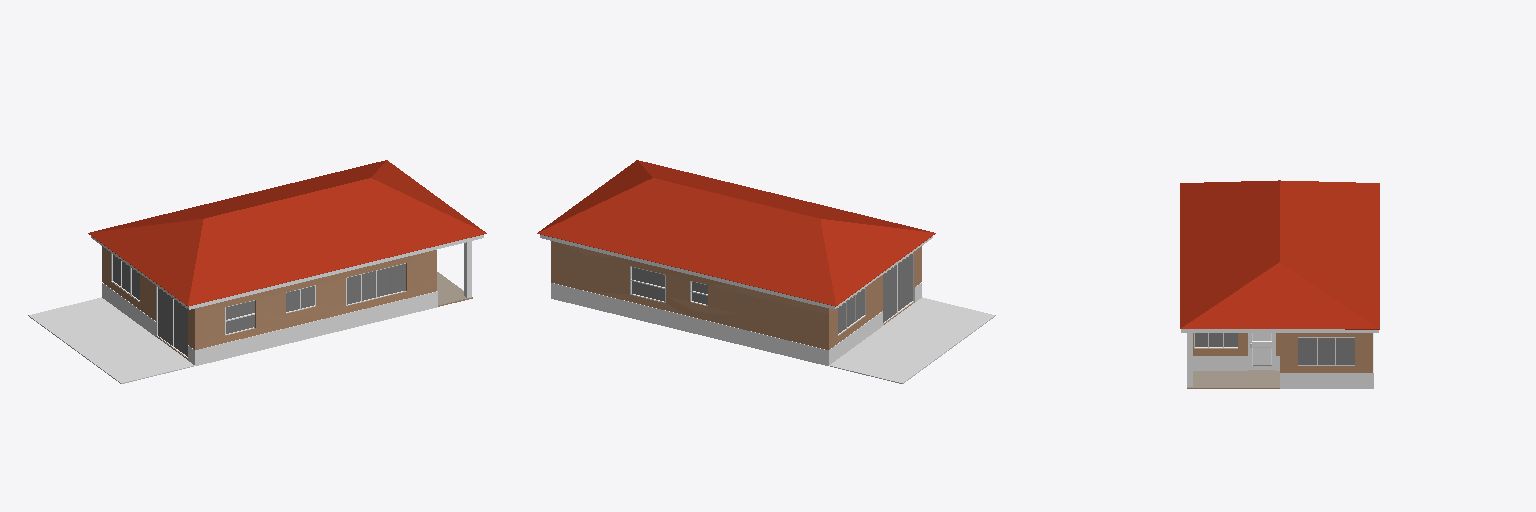
Rendered from house.obj.
3 views of the same model, side by side, from view 1: azimuth 30°, elevation 25°; view 2: azimuth 150°, elevation 25°; view 3: azimuth 270°, elevation 25° (orthographic).
Visible parts, largest first — view 1: roof, house, patio, siding, glass, aleron, frame, frontporch; view 2: roof, house, patio, siding, glass, aleron, frame; view 3: roof, house, siding, glass, frontporch, door, aleron.
Part boxes in pixels (x1,y1,x2,y2): roof: (88, 160, 486, 306); house: (102, 246, 472, 359); patio: (28, 297, 194, 383); siding: (102, 282, 437, 365); glass: (113, 255, 404, 356); aleron: (91, 235, 483, 309); frame: (111, 253, 405, 358); frontporch: (437, 272, 472, 305); roof: (537, 160, 935, 306); house: (551, 241, 921, 349); patio: (829, 297, 995, 383); siding: (551, 282, 921, 365); glass: (632, 254, 912, 333); aleron: (540, 235, 932, 309); frame: (630, 253, 913, 335); roof: (1180, 180, 1379, 329); house: (1187, 333, 1372, 388); siding: (1193, 333, 1373, 388); glass: (1195, 333, 1354, 364); frontporch: (1187, 370, 1279, 387); door: (1249, 333, 1274, 368); aleron: (1181, 329, 1378, 332).
Bounding box in the file's own units: 5.48 × 1.45 × 2.63.